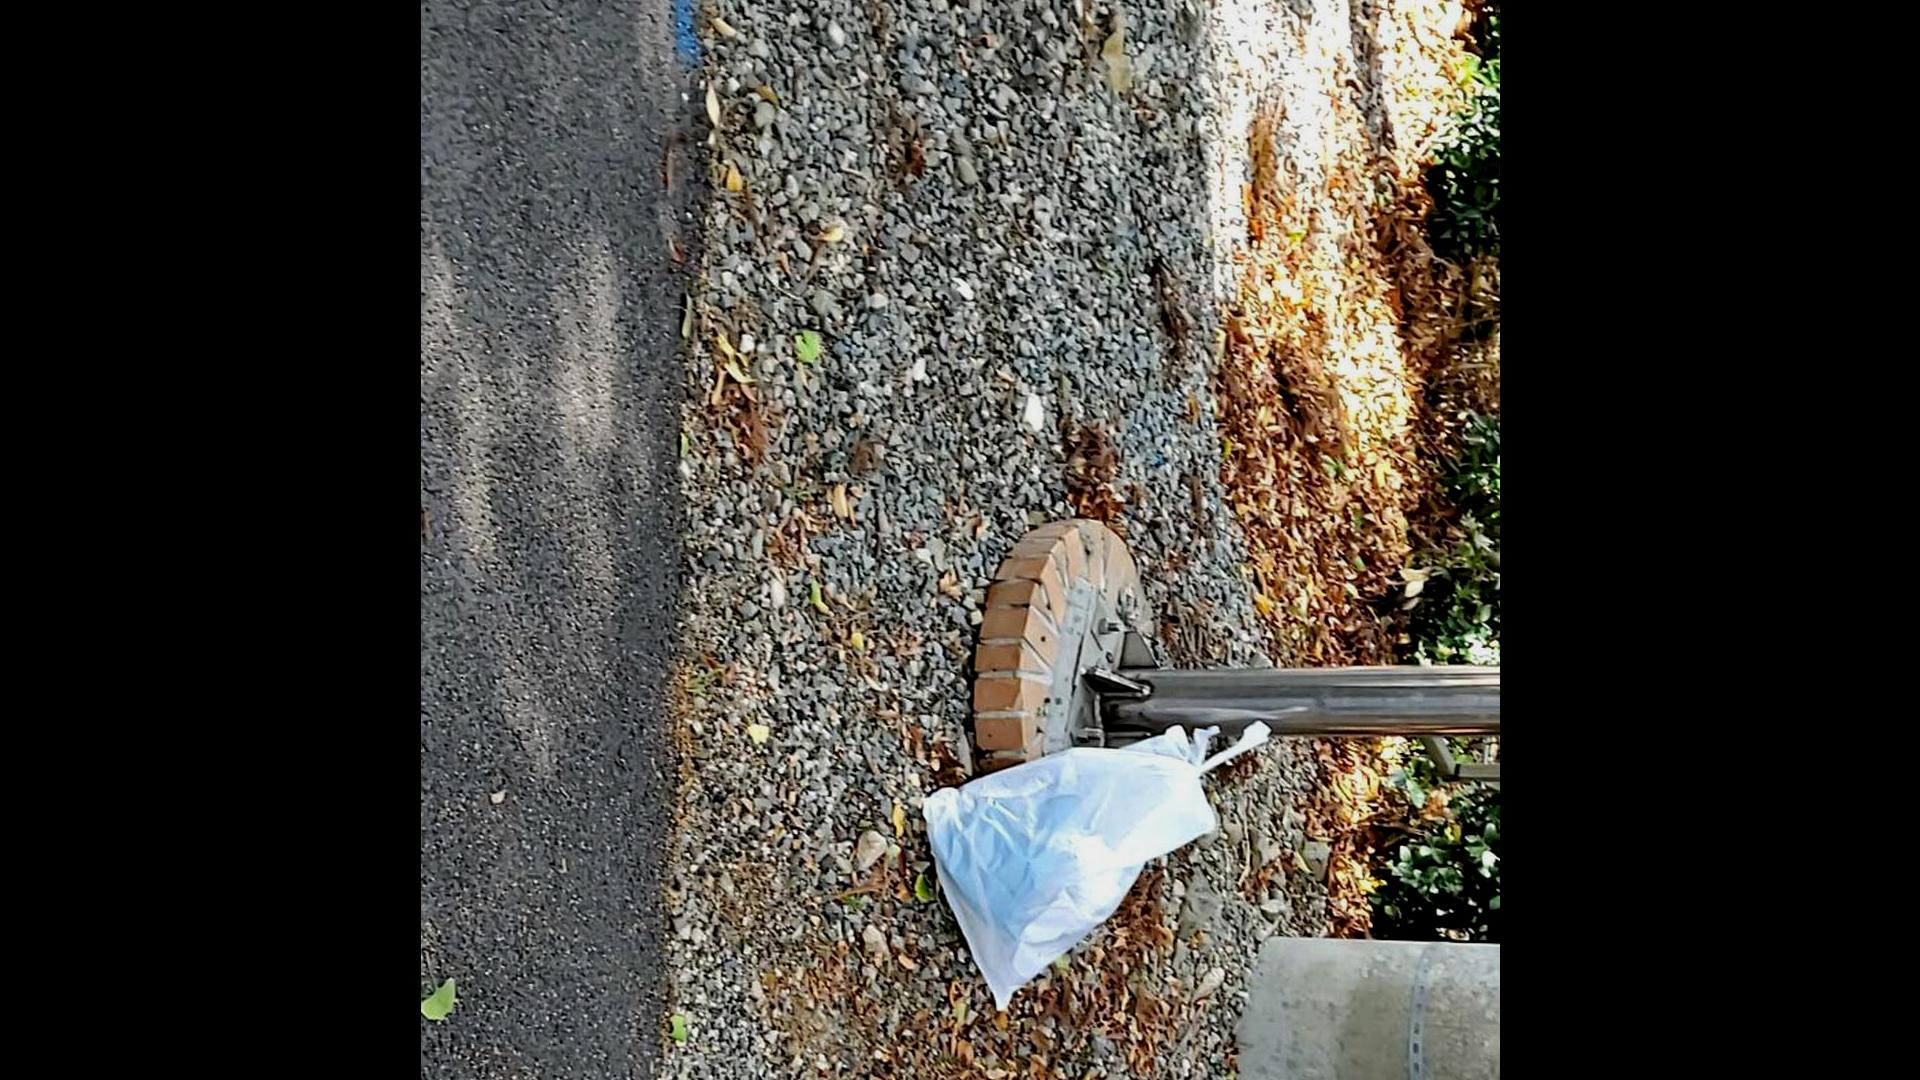white_bag: (913, 700, 1288, 1025)
